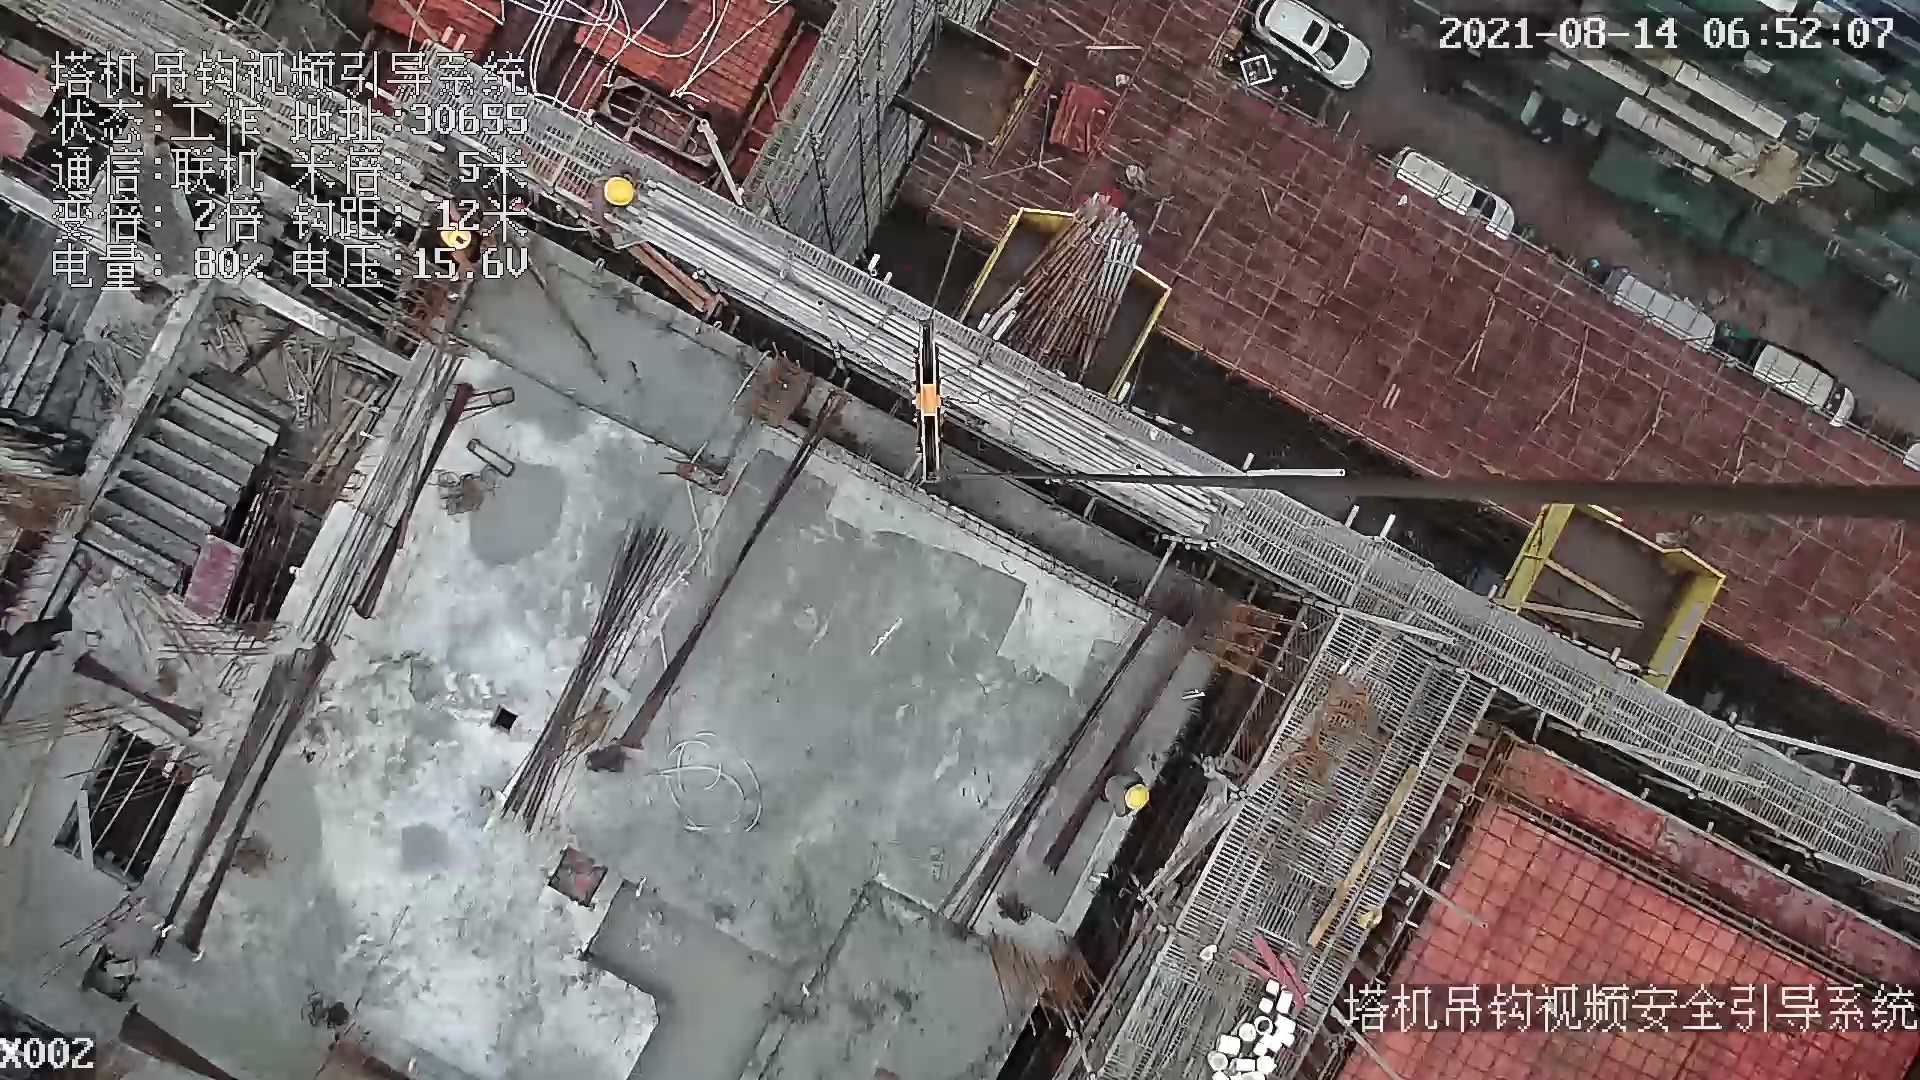helmet: (603, 176, 634, 206), (1125, 784, 1149, 811)
hook: (903, 317, 965, 497)
person: (584, 157, 642, 236), (2, 608, 75, 658), (1097, 767, 1153, 828)
rebar: (626, 183, 1245, 541), (502, 529, 688, 836)
scaffold: (986, 197, 1140, 387)
